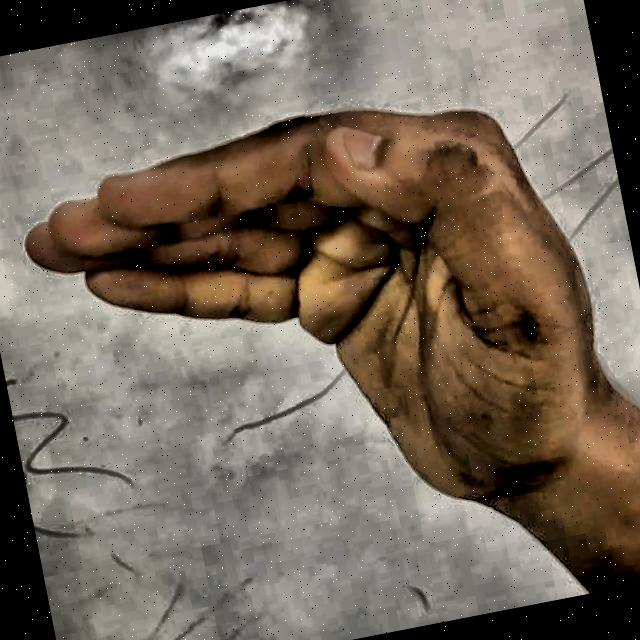Ga: (0, 17, 640, 626)
